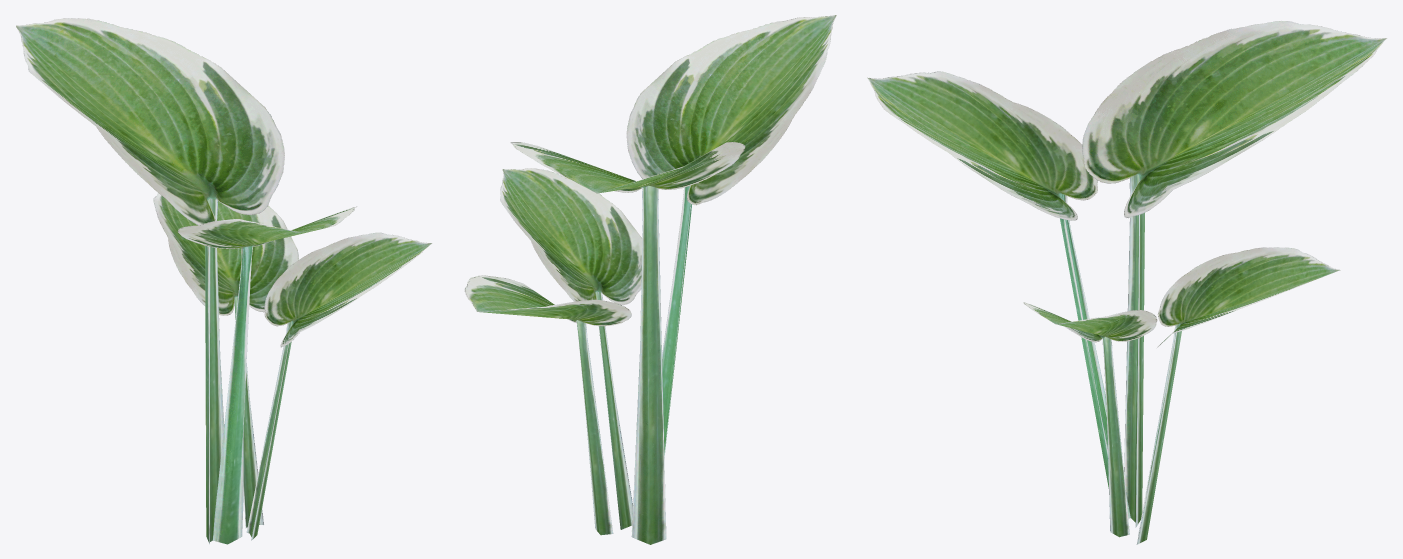
The model's file is plant_small_wg_05E2.fbx.
3 views of the same model, side by side, from view 1: azimuth 30°, elevation 25°; view 2: azimuth 150°, elevation 25°; view 3: azimuth 270°, elevation 25° (orthographic). The views are drawn at different scales.
Visible parts, largest first — view 1: plant_small_wg_05E2; view 2: plant_small_wg_05E2; view 3: plant_small_wg_05E2.
Part boxes in pixels (x1,y1,x2,y2): plant_small_wg_05E2: (16, 18, 431, 544); plant_small_wg_05E2: (464, 15, 836, 544); plant_small_wg_05E2: (867, 21, 1386, 544).
Size of the model in its own units: 28.54 by 41.02 by 43.22.
